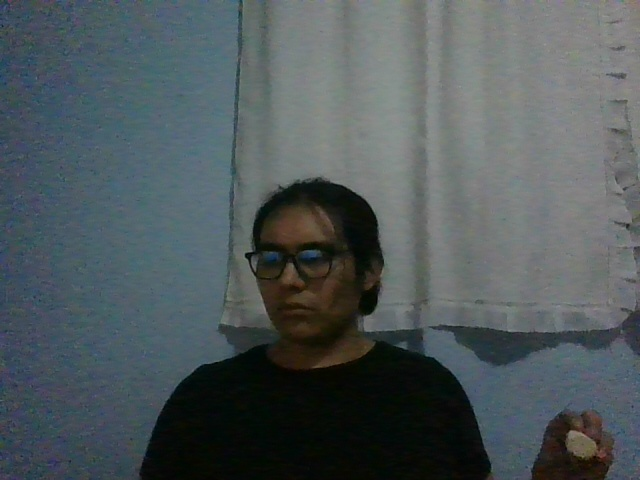goma: (566, 430, 597, 461)
